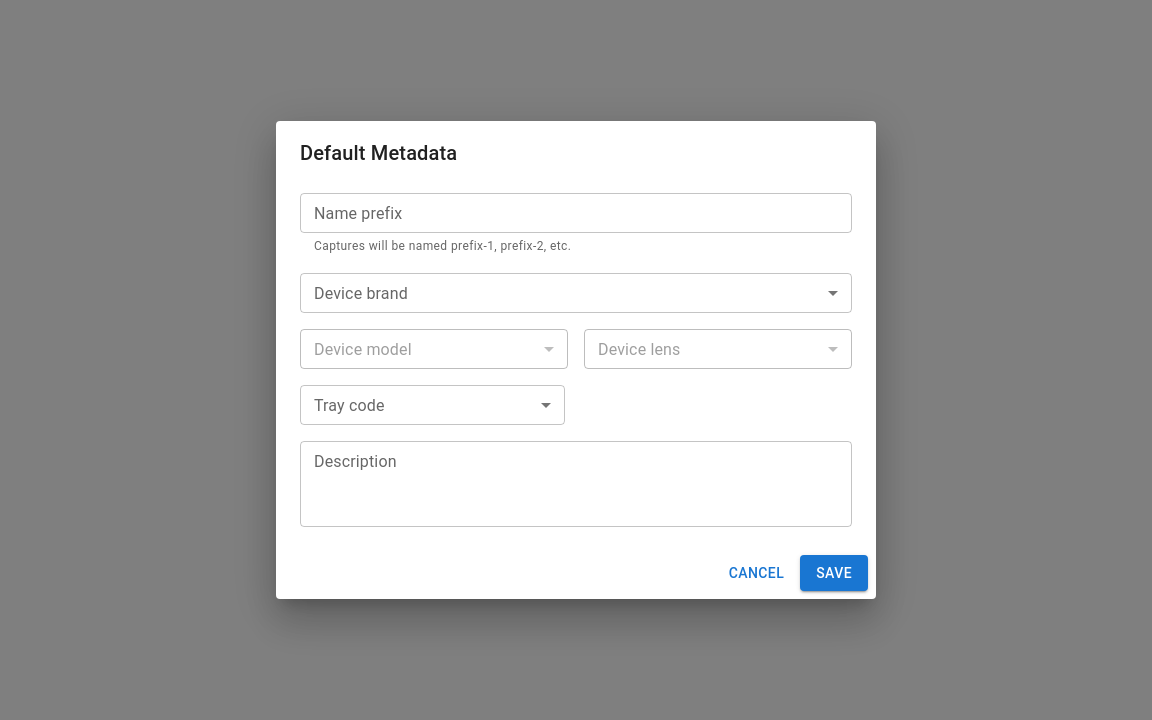
Test case: MetadataDialog › defaults mode › shows a validation error when saving with an empty name prefix
Click the button "Save" at (834, 573), box [800, 555, 868, 591]
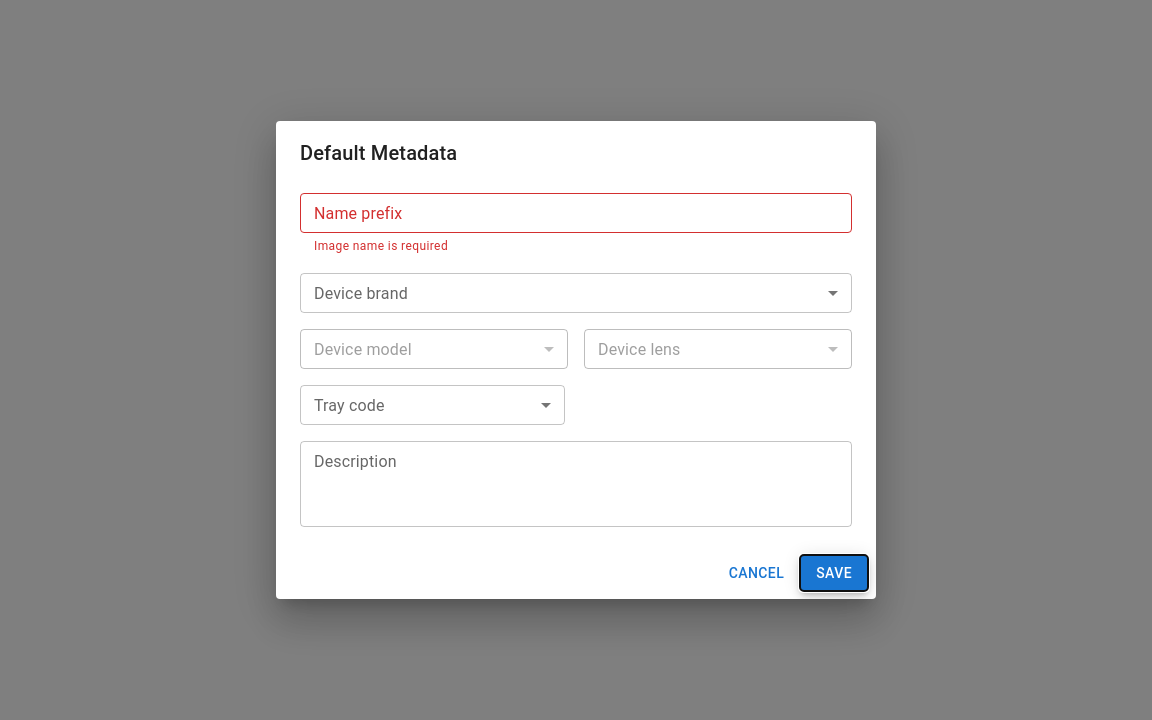
Check: the text "Image name is required" is shown, box [314, 239, 448, 253]
